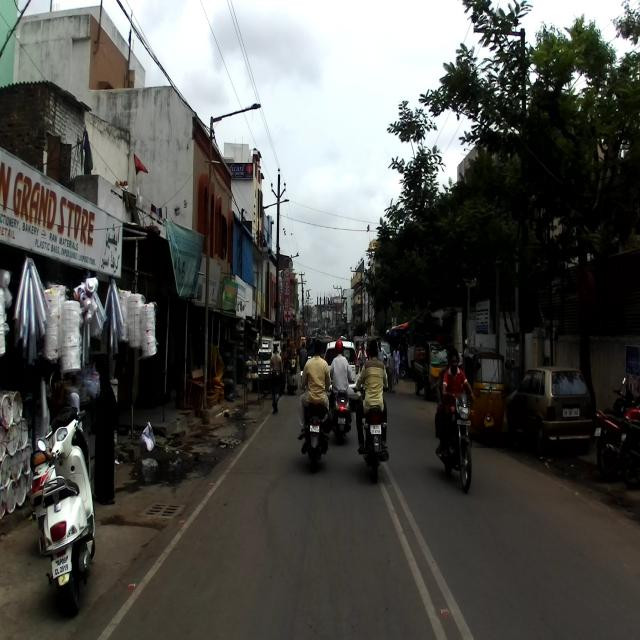Car_Maruti-Suzuki: (504, 365, 594, 457)
motorcycle_Honda: (595, 376, 634, 480), (352, 384, 390, 484)
motorcycle_Yamaha: (300, 369, 331, 472)
motorcycle_bajaj: (436, 385, 476, 491)
scooter: (37, 401, 98, 618), (30, 432, 58, 558)
